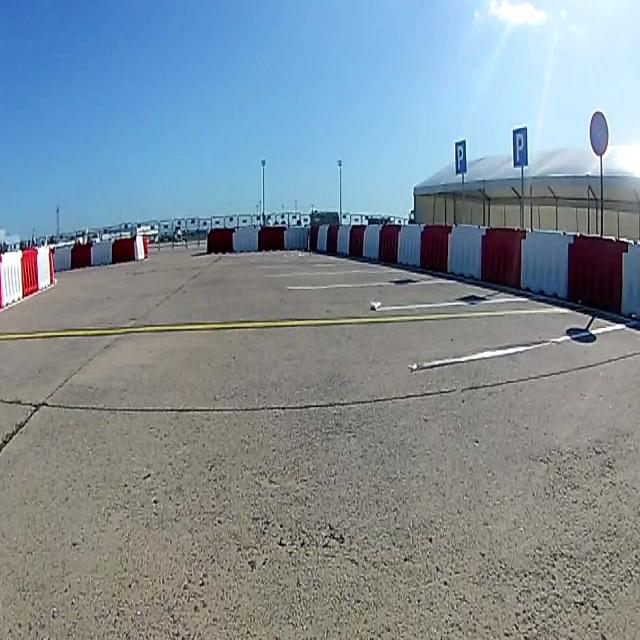park: (512, 125, 528, 169), (454, 140, 468, 174)
parkyasak: (589, 110, 609, 156)
